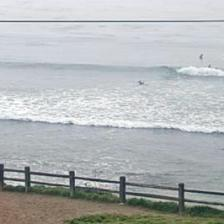surfer: (137, 80, 144, 85), (199, 54, 203, 60), (208, 64, 211, 68)
